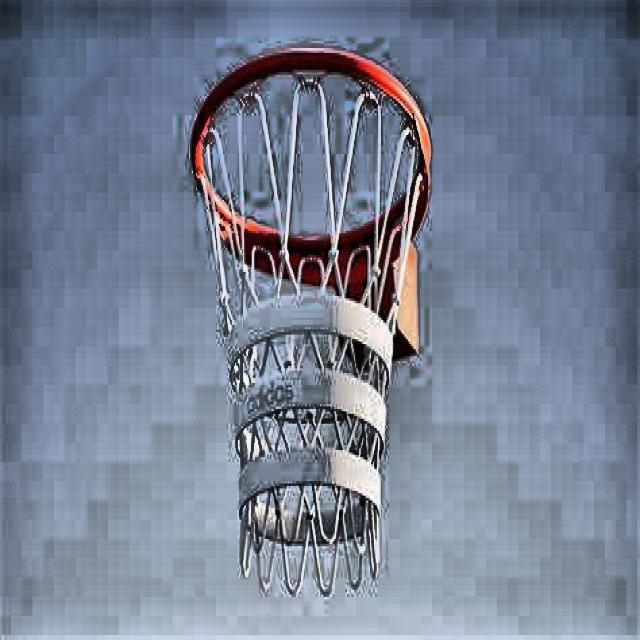rim: (191, 45, 431, 593)
